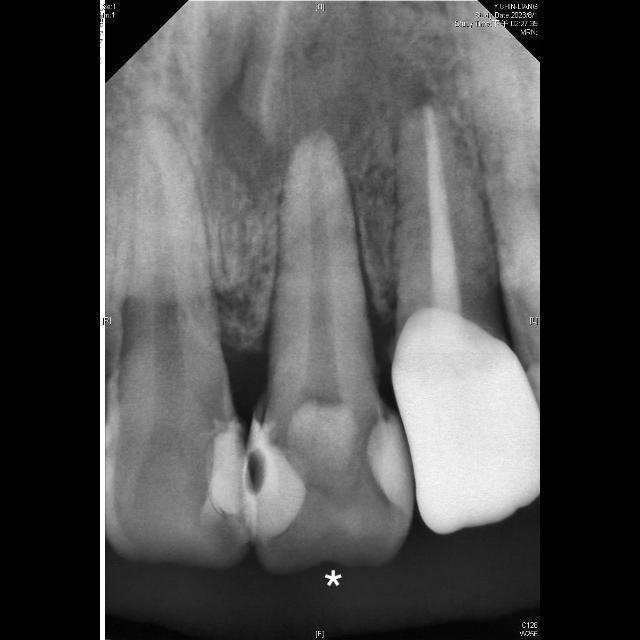test-segment: (246, 132, 413, 572)
